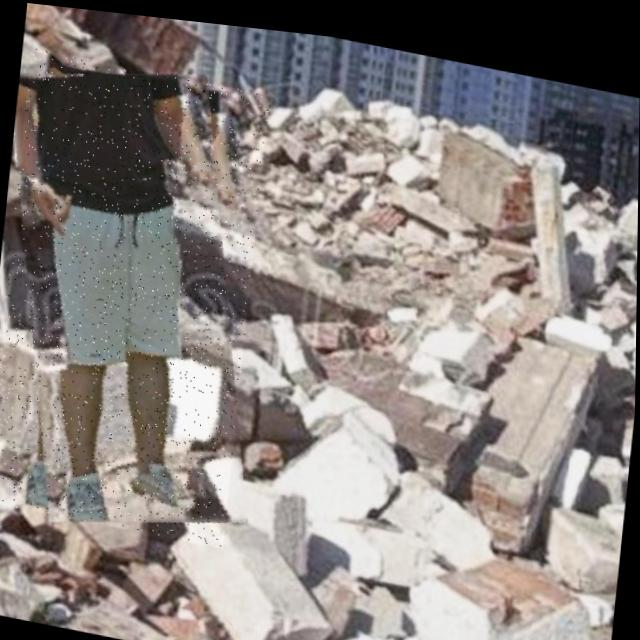Person in Rubble: (0, 44, 269, 547)
